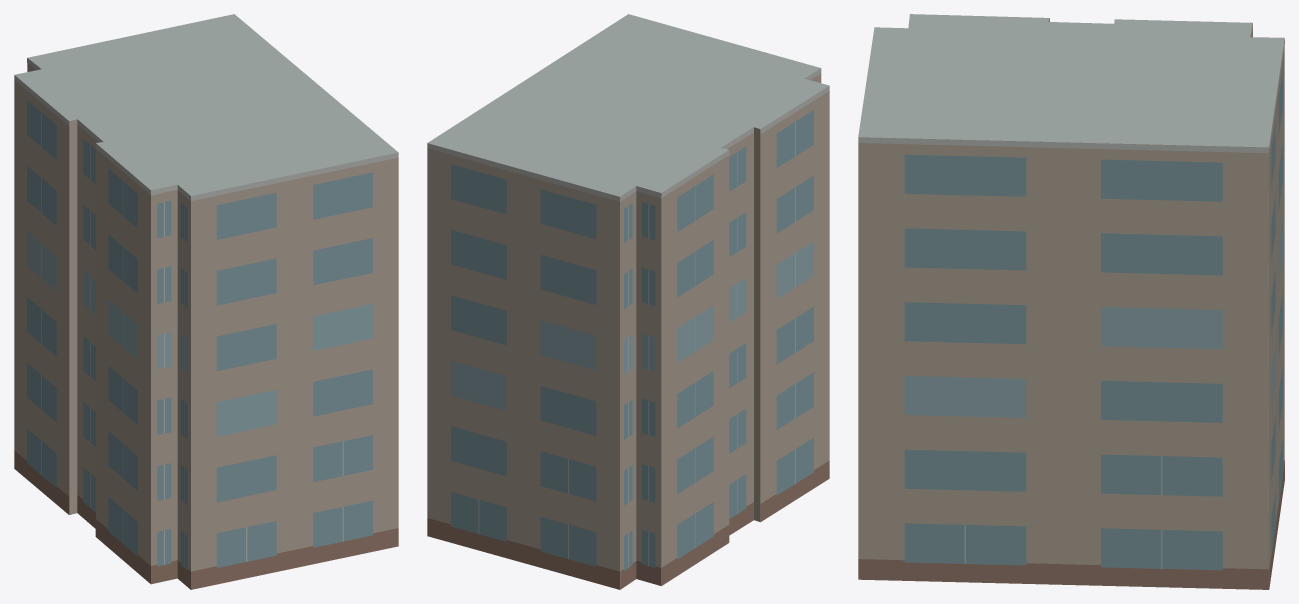
The model's file is survey-upis-32665288.glb.
The picture shows the model from 3 angles, left to right: view 1: azimuth 30°, elevation 25°; view 2: azimuth 150°, elevation 25°; view 3: azimuth 270°, elevation 25°; orthographic projection. The views are drawn at different scales.
Visible parts, largest first — view 1: survey-upis-32665288.tmp; view 2: survey-upis-32665288.tmp; view 3: survey-upis-32665288.tmp.
Part boxes in pixels (bbox=[...]): survey-upis-32665288.tmp: bbox=[14, 14, 398, 589]; survey-upis-32665288.tmp: bbox=[427, 14, 829, 589]; survey-upis-32665288.tmp: bbox=[858, 14, 1284, 589].
Bounding box in the file's own units: 12.1 × 18.7 × 16.35.
